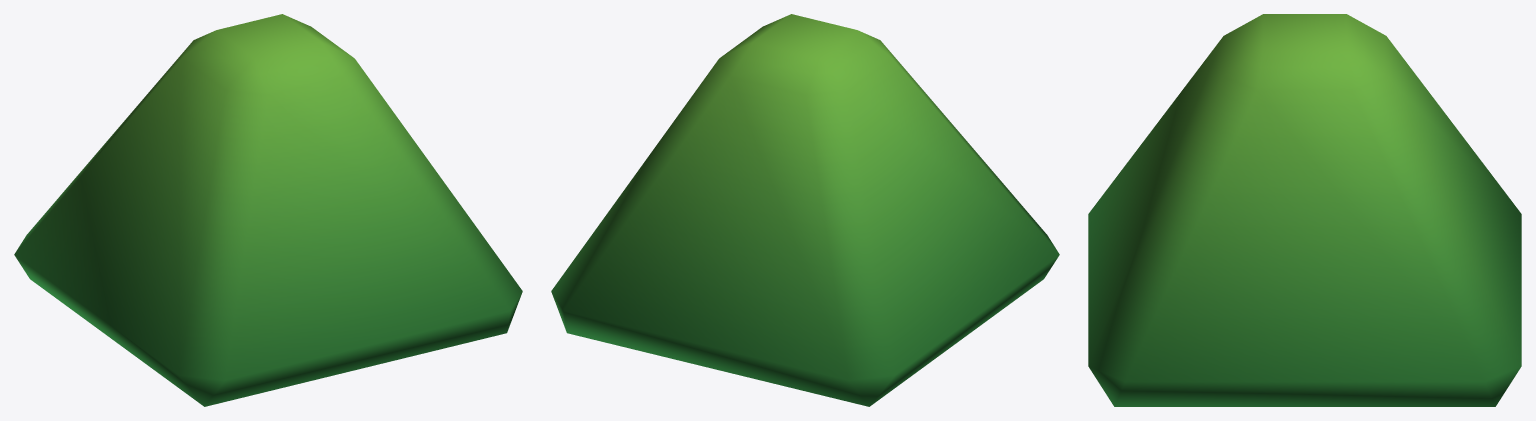
The model's file is Bush_4_B_Color1.fbx.
The picture shows the model from 3 angles, left to right: view 1: azimuth 30°, elevation 25°; view 2: azimuth 150°, elevation 25°; view 3: azimuth 270°, elevation 25°; orthographic projection. The views are drawn at different scales.
Visible parts, largest first — view 1: Bush_4_B_Color1; view 2: Bush_4_B_Color1; view 3: Bush_4_B_Color1.
Part boxes in pixels (x1,y1,x2,y2): Bush_4_B_Color1: [14, 14, 522, 406]; Bush_4_B_Color1: [551, 14, 1059, 406]; Bush_4_B_Color1: [1088, 14, 1521, 406].
Bounding box in the file's own units: 0.9908 × 0.7434 × 0.9908.
